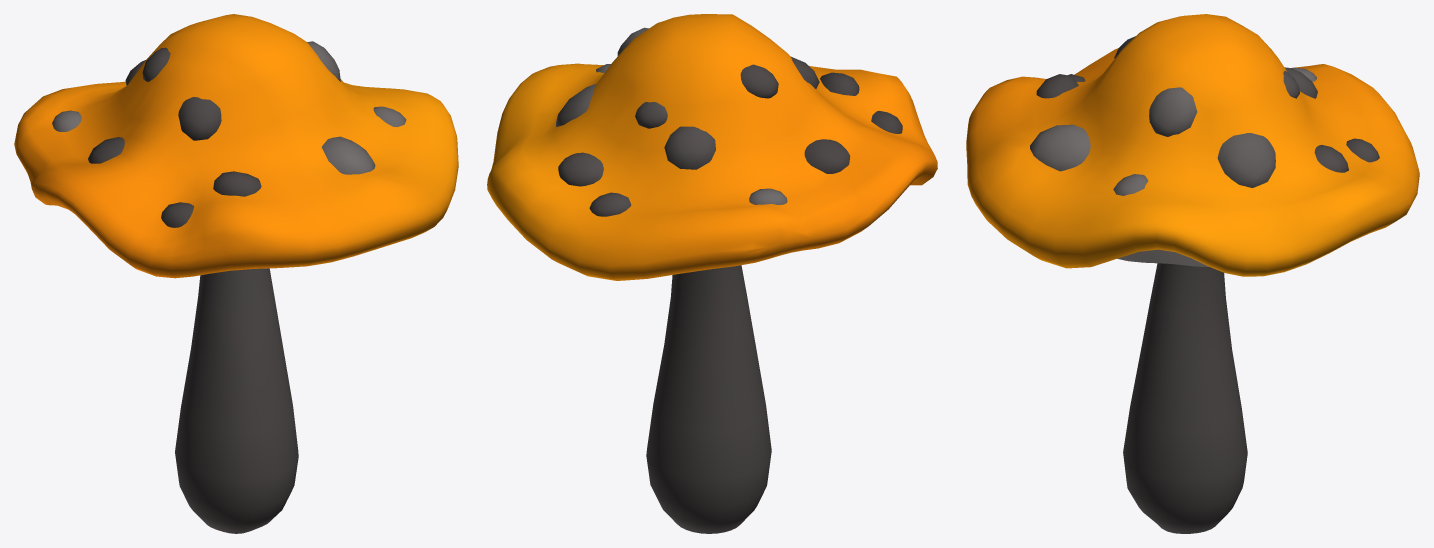
File: mushroom 15.fbx
The picture shows the model from 3 angles, left to right: view 1: azimuth 30°, elevation 25°; view 2: azimuth 150°, elevation 25°; view 3: azimuth 270°, elevation 25°; orthographic projection.
Parts seen in each view (by area): view 1: Mushroom_0001_0015; view 2: Mushroom_0001_0015; view 3: Mushroom_0001_0015.
Part boxes in pixels (x1,y1,x2,y2): Mushroom_0001_0015: (14,14,458,533); Mushroom_0001_0015: (487,14,937,533); Mushroom_0001_0015: (966,14,1419,533).
Bounding box in the file's own units: 27.26 × 33.07 × 27.41.
Materials: 1 (1 with a texture image).
